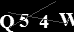4: (38, 14, 49, 29)
5: (18, 13, 28, 28)
Q: (1, 15, 14, 32)
W: (58, 12, 74, 27)
